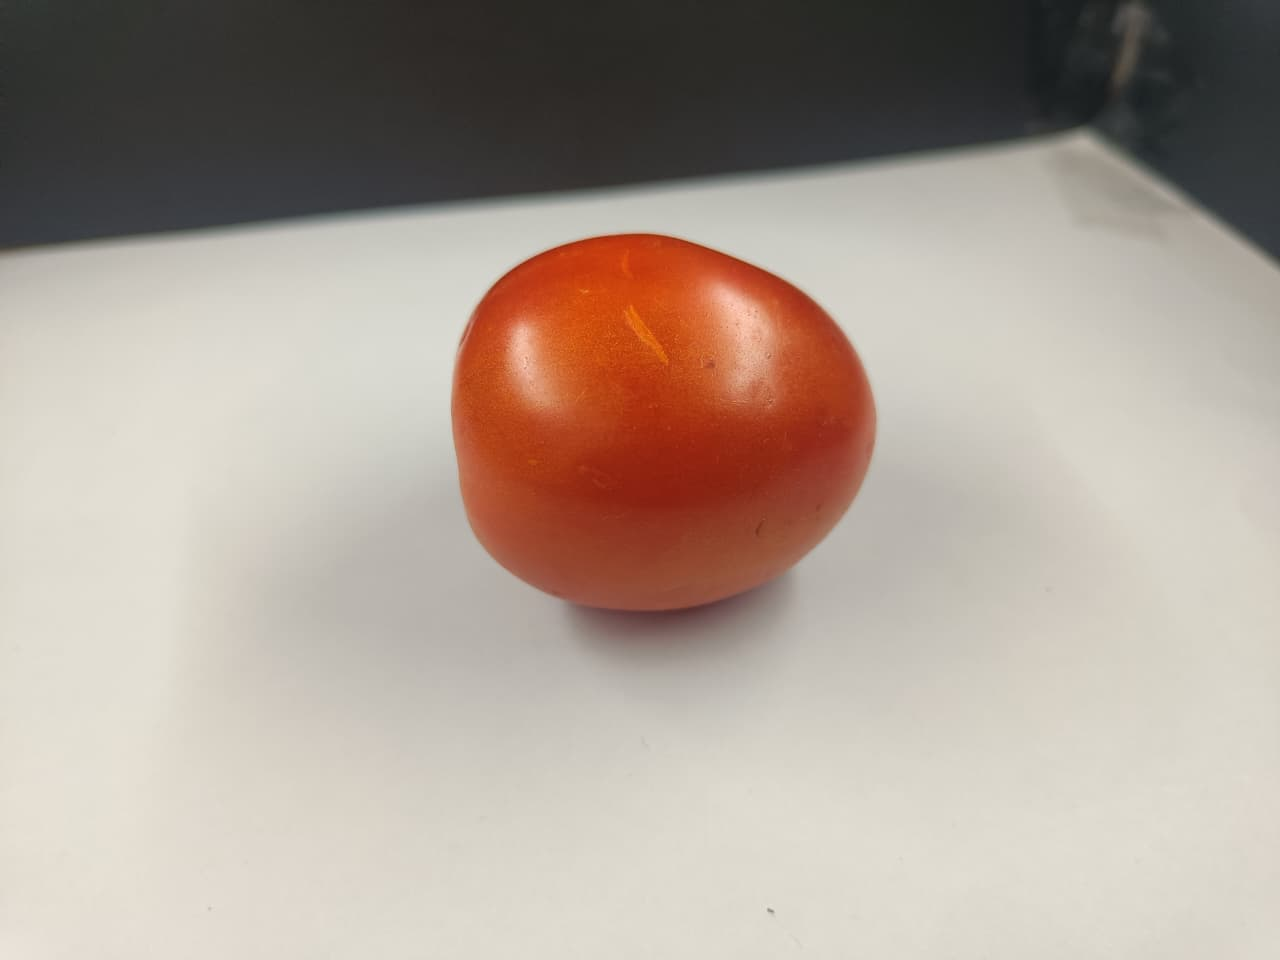ripe: (432, 235, 897, 617)
